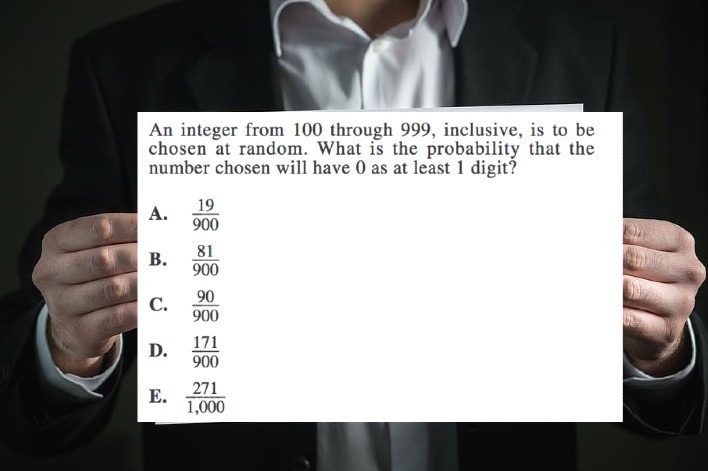questionPaper: (139, 113, 624, 424)
